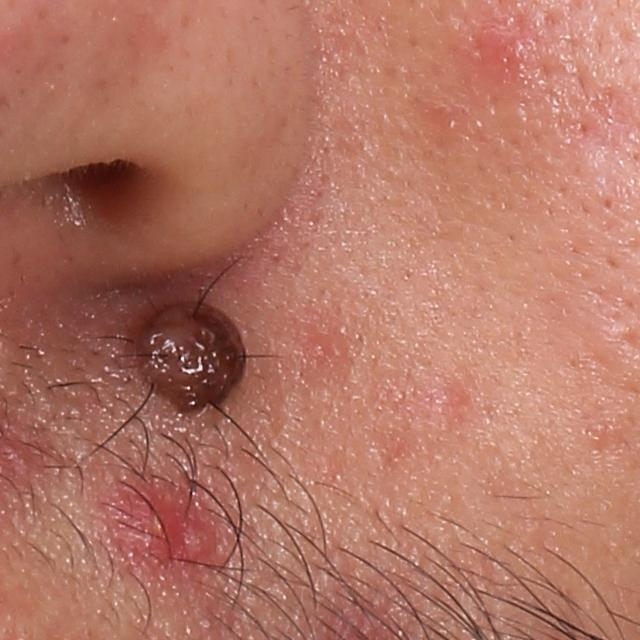nevus: (136, 297, 250, 414)
papule: (94, 486, 229, 579), (471, 20, 534, 85), (413, 367, 474, 432), (295, 314, 347, 369)
